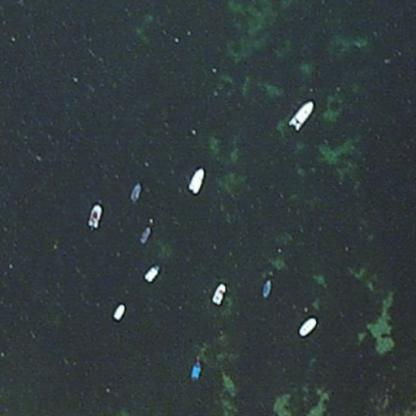ship: (283, 95, 321, 133), (80, 198, 108, 233), (184, 163, 208, 196), (295, 312, 321, 340), (184, 357, 208, 385), (138, 262, 166, 285), (208, 278, 228, 309), (125, 179, 146, 205), (255, 274, 276, 300), (134, 223, 154, 246), (109, 298, 127, 322)
